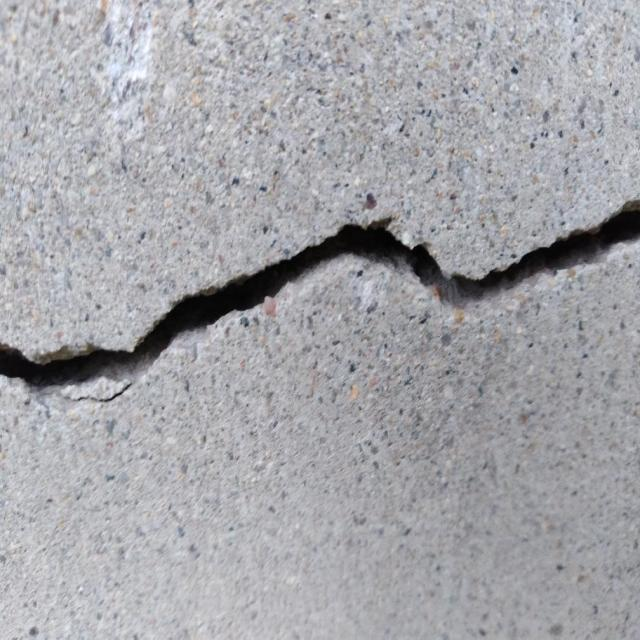horizontal crack: (0, 196, 639, 391)
